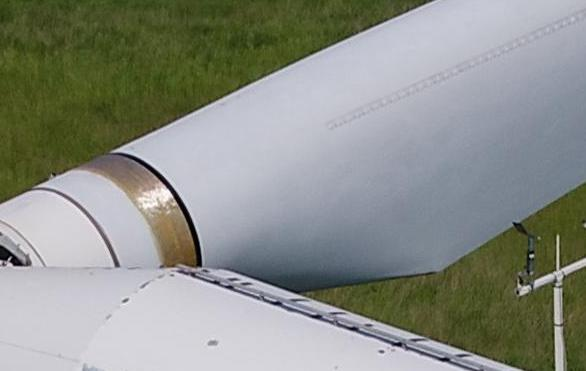damage: (207, 337, 219, 346)
